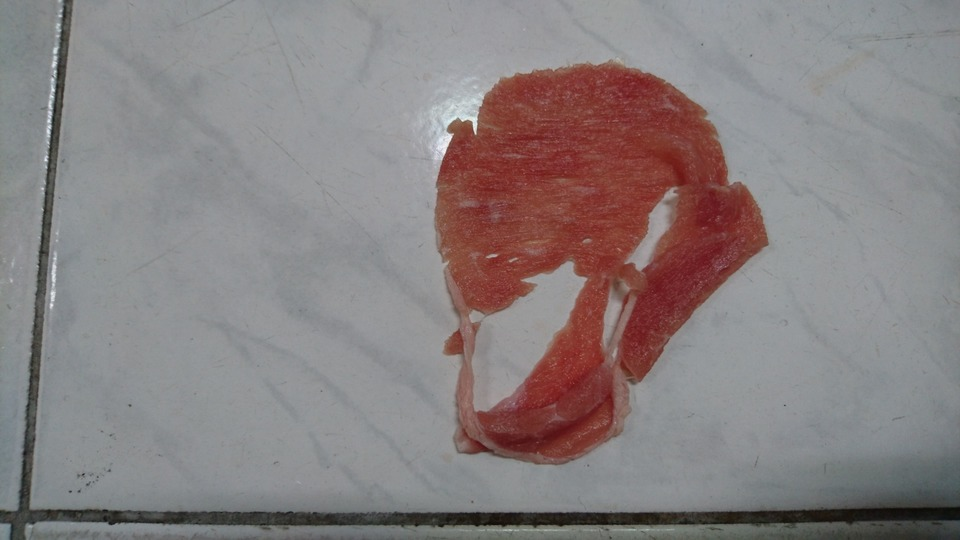restructured meat: (364, 63, 786, 477)
